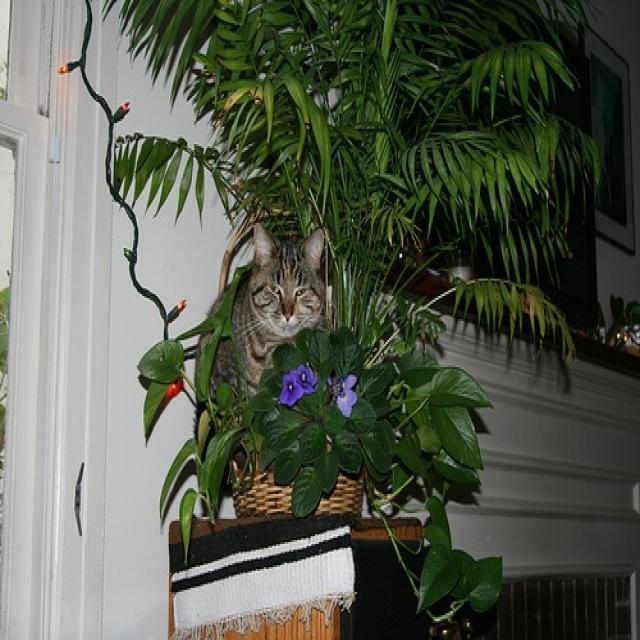cat: (208, 221, 326, 394)
pottedplant: (102, 0, 604, 623)
